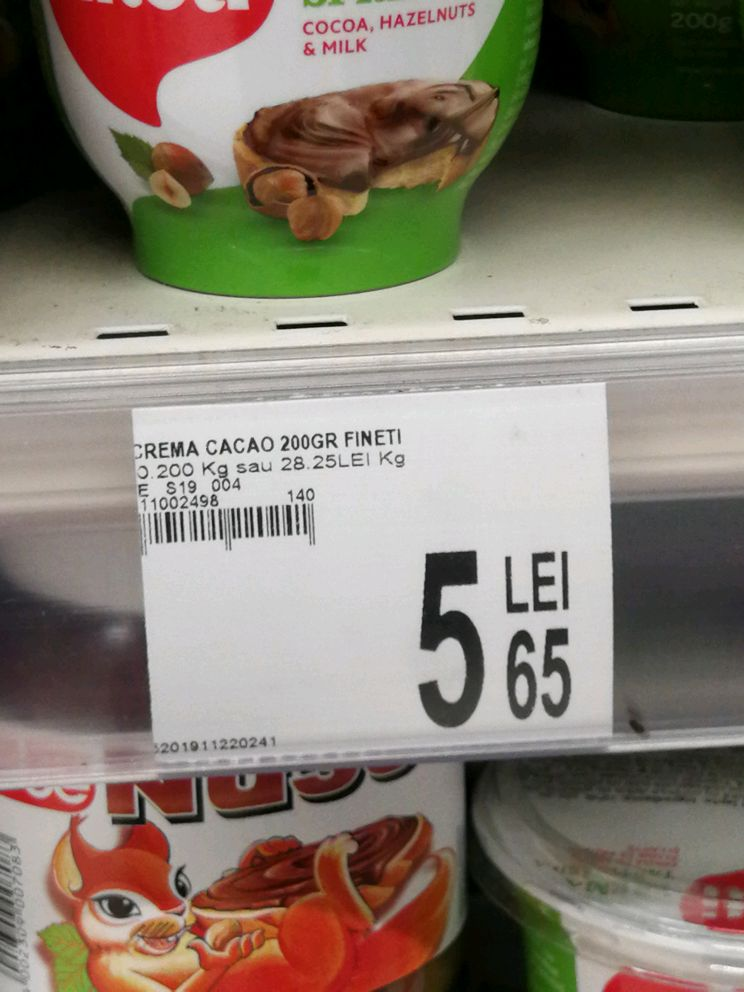price_bani: (498, 620, 581, 734)
price_lei: (399, 542, 490, 732)
price_tag: (118, 380, 619, 773)
product_id: (139, 732, 286, 761)
product_name: (126, 422, 412, 462)
